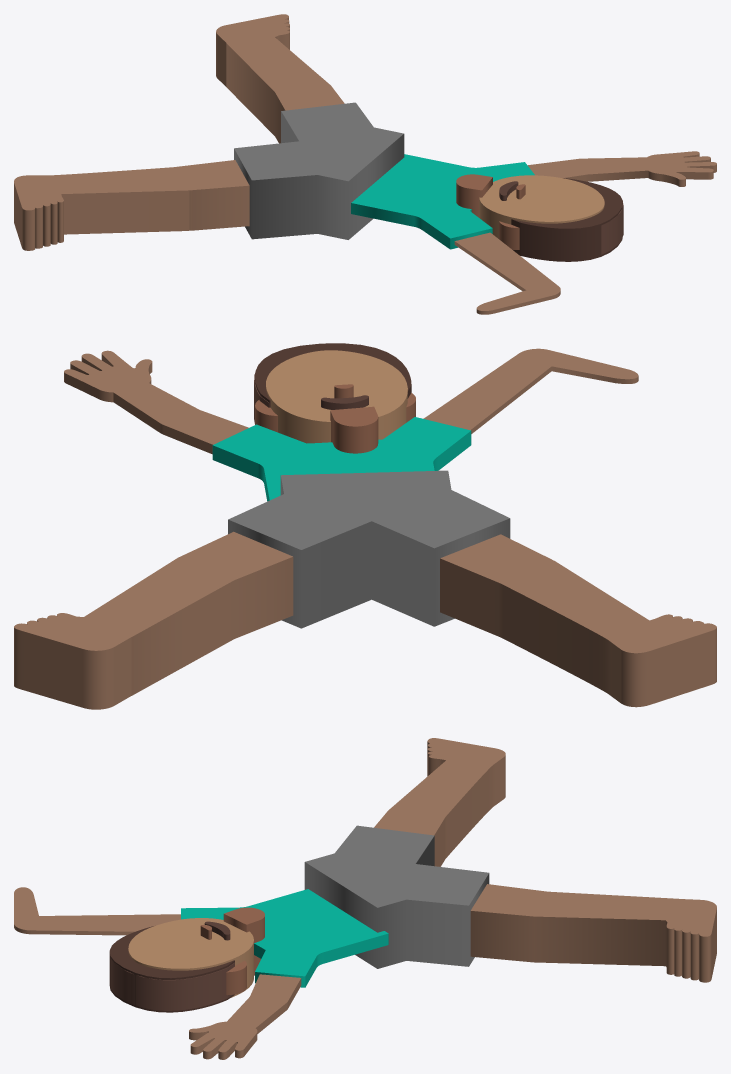
The model's file is emoji_u1f938_1f3fd_200d_2642.glb.
3 views of the same model, one above another, from view 1: azimuth 30°, elevation 25°; view 2: azimuth 150°, elevation 25°; view 3: azimuth 270°, elevation 25° (orthographic). The views are drawn at different scales.
Parts seen in each view (by area): view 1: emoji_u1f938_1f3fd_200d_2642; view 2: emoji_u1f938_1f3fd_200d_2642; view 3: emoji_u1f938_1f3fd_200d_2642.
Part boxes in pixels (left/top/right/bottom): emoji_u1f938_1f3fd_200d_2642: left=14, top=14, right=716, bottom=314; emoji_u1f938_1f3fd_200d_2642: left=14, top=343, right=716, bottom=709; emoji_u1f938_1f3fd_200d_2642: left=14, top=738, right=716, bottom=1059.
Bounding box in the file's own units: 0.0333 × 0.0032 × 0.0333.
